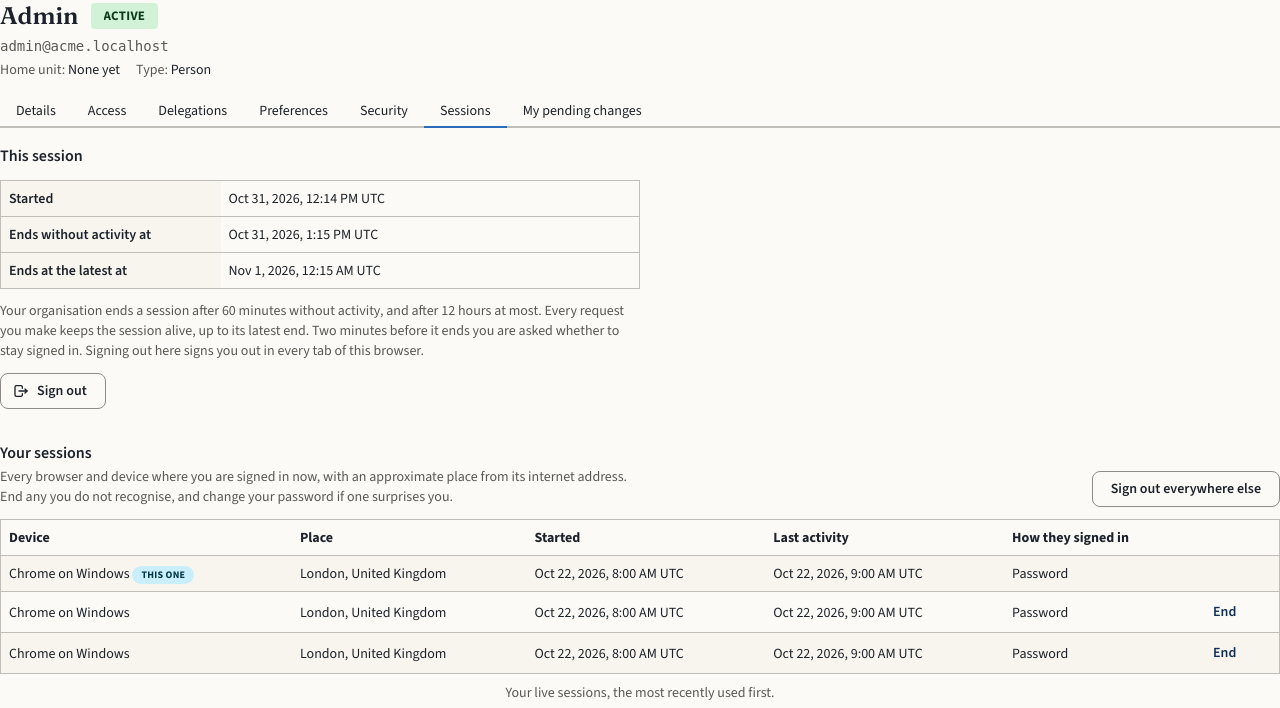
Test: My profile's Sessions tab › signs out everywhere else in one step [TF-022 AC4]
Click the button "Sign out everywhere else".
click(1186, 489)  # box [1092,471,1279,507]
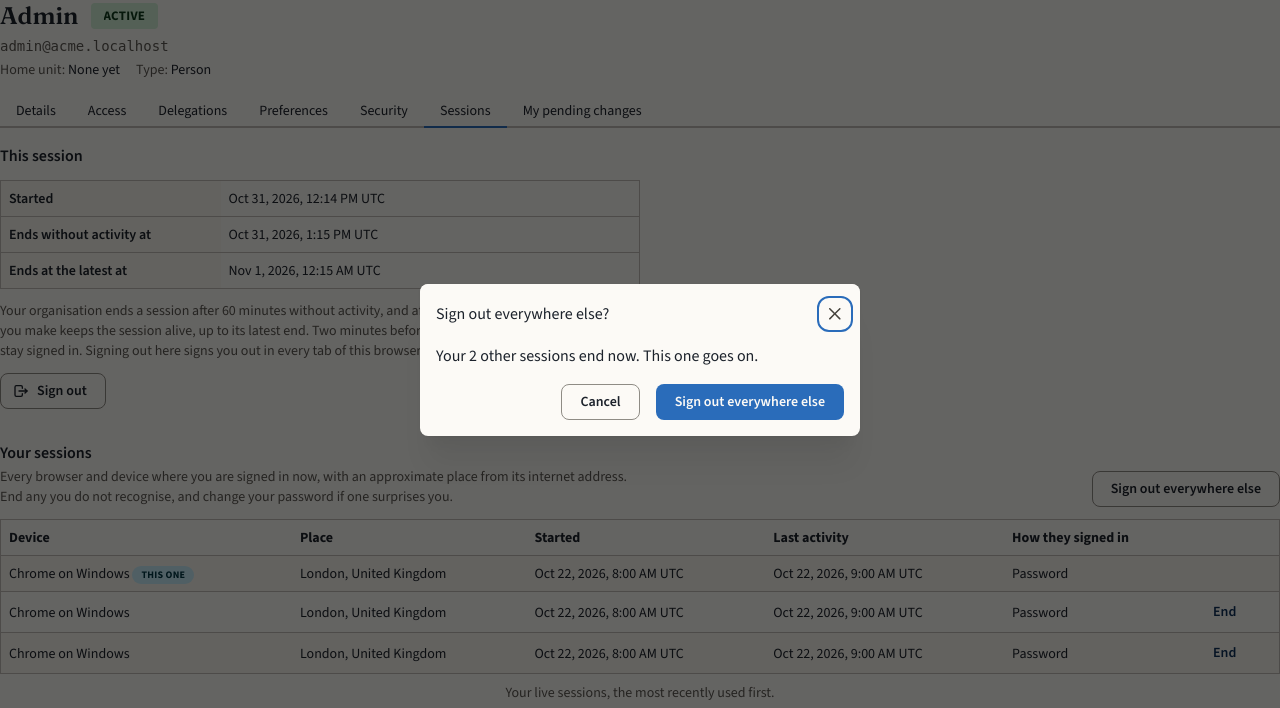
Expected: the dialog "Sign out everywhere else?" shows "Your 2 other sessions end now.", [436,345,758,366]
Click the button "Sign out everywhere else".
click(750, 402)  # box [656,384,844,420]
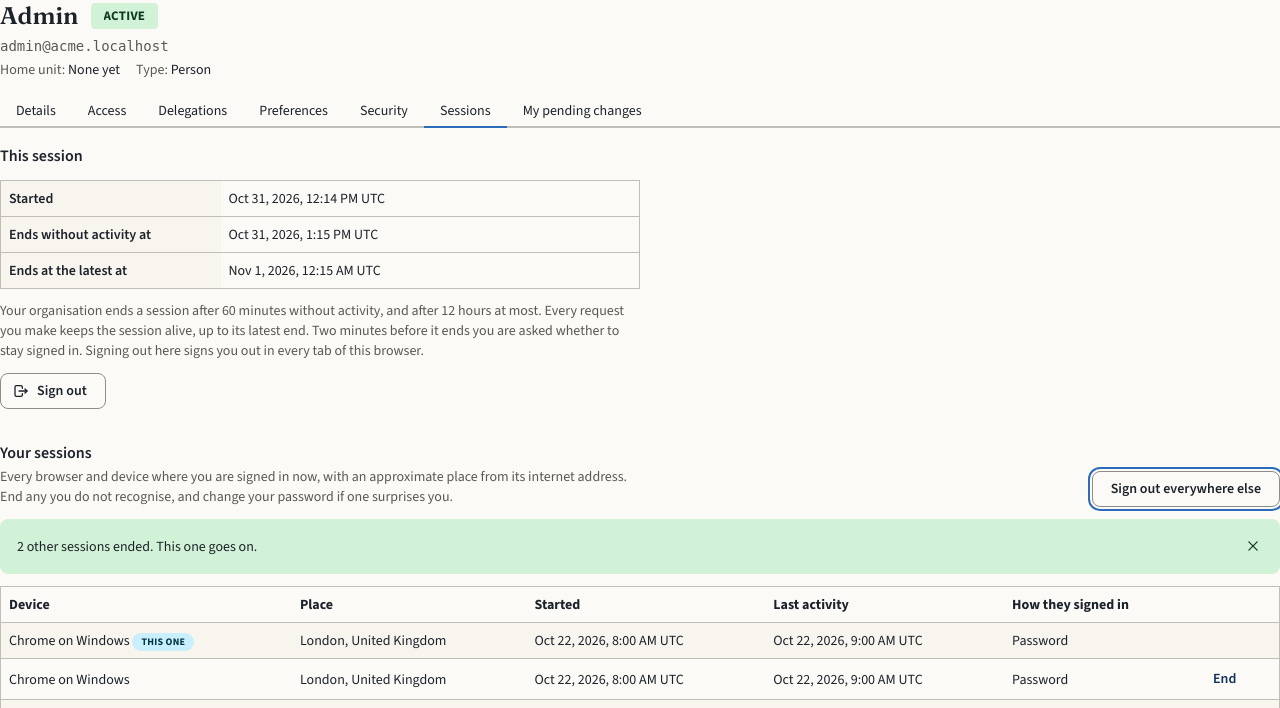
Expected: the message shows "2 other sessions ended.", [17,537,257,556]
